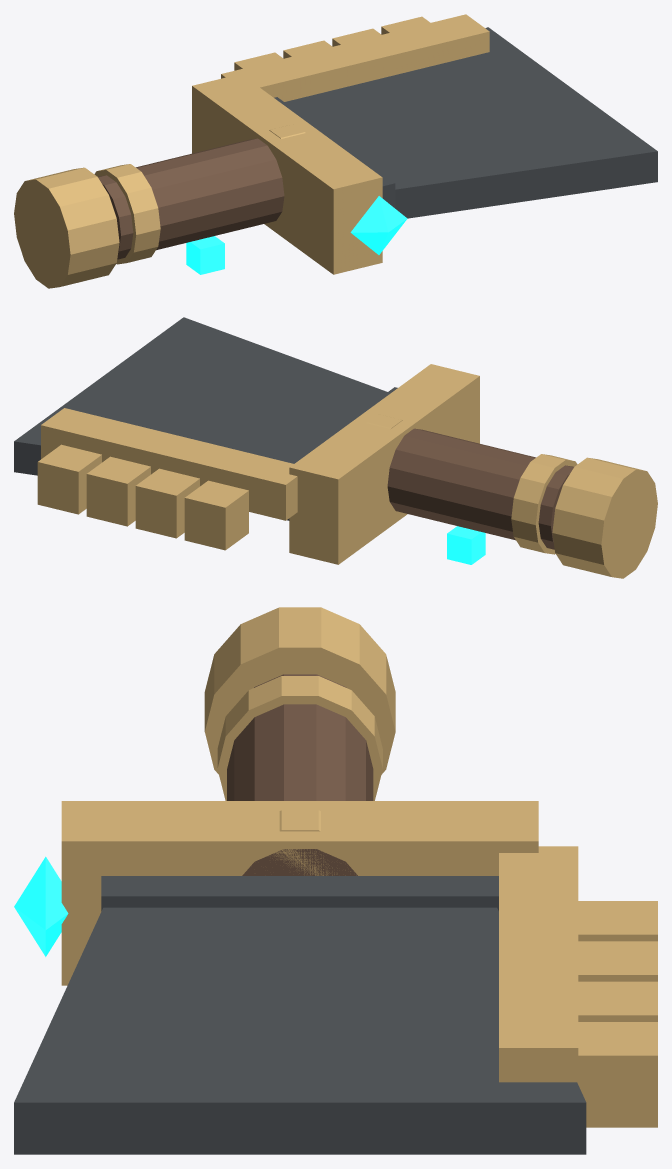
The model's file is SM_MKG_RatchetCleaver_A01.fbx.
The picture shows the model from 3 angles, top to bottom: view 1: azimuth 30°, elevation 25°; view 2: azimuth 150°, elevation 25°; view 3: azimuth 270°, elevation 25°; orthographic projection. The views are drawn at different scales.
Parts seen in each view (by area): view 1: Blade_DarkIron_WideCleaver, Guard_Brass_Block, Grip_Leather_OversizedGnome, Pommel_Brass_Counterweight, Blade_Brass_ReinforcedSpine, Grip_Brass_BackBand, CalibrationInset_Aetherium_Blue, SocketMarker_HandRWeapon_Pivot, Blade_DarkIron_HeelPlate, RatchetTooth_Brass_04, RatchetTooth_Brass_01, RatchetTooth_Brass_03 (+1 smaller); view 2: Blade_DarkIron_WideCleaver, Guard_Brass_Block, Grip_Leather_OversizedGnome, Blade_Brass_ReinforcedSpine, Pommel_Brass_Counterweight, RatchetTooth_Brass_01, RatchetTooth_Brass_02, RatchetTooth_Brass_03, RatchetTooth_Brass_04, Grip_Brass_BackBand, SocketMarker_HandRWeapon_Pivot, Blade_DarkIron_HeelPlate; view 3: Blade_DarkIron_WideCleaver, Guard_Brass_Block, Blade_Brass_ReinforcedSpine, Grip_Leather_OversizedGnome, Pommel_Brass_Counterweight, Blade_DarkIron_HeelPlate, RatchetTooth_Brass_04, Grip_Brass_BackBand, RatchetTooth_Brass_01, RatchetTooth_Brass_02, RatchetTooth_Brass_03, CalibrationInset_Aetherium_Blue (+1 smaller).
Part boxes in pixels (x1=…): Blade_DarkIron_WideCleaver: x1=284, y1=27, x2=657, y2=218; Guard_Brass_Block: x1=192, y1=74, x2=382, y2=274; Grip_Leather_OversizedGnome: x1=98, y1=138, x2=284, y2=259; Pommel_Brass_Counterweight: x1=14, y1=167, x2=119, y2=288; Blade_Brass_ReinforcedSpine: x1=221, y1=14, x2=489, y2=101; Grip_Brass_BackBand: x1=94, y1=164, x2=160, y2=264; CalibrationInset_Aetherium_Blue: x1=350, y1=196, x2=407, y2=254; SocketMarker_HandRWeapon_Pivot: x1=186, y1=236, x2=224, y2=274; Blade_DarkIron_HeelPlate: x1=274, y1=97, x2=395, y2=208; RatchetTooth_Brass_04: x1=381, y1=16, x2=430, y2=34; RatchetTooth_Brass_01: x1=234, y1=52, x2=283, y2=70; RatchetTooth_Brass_03: x1=332, y1=28, x2=381, y2=46; Blade_DarkIron_WideCleaver: x1=14, y1=317, x2=387, y2=475; Guard_Brass_Block: x1=289, y1=364, x2=479, y2=564; Grip_Leather_OversizedGnome: x1=387, y1=428, x2=573, y2=549; Blade_Brass_ReinforcedSpine: x1=41, y1=408, x2=297, y2=520; Pommel_Brass_Counterweight: x1=552, y1=457, x2=657, y2=578; RatchetTooth_Brass_01: x1=184, y1=480, x2=248, y2=550; RatchetTooth_Brass_02: x1=135, y1=468, x2=199, y2=538; RatchetTooth_Brass_03: x1=86, y1=456, x2=150, y2=526; RatchetTooth_Brass_04: x1=37, y1=444, x2=101, y2=514; Grip_Brass_BackBand: x1=511, y1=454, x2=577, y2=554; SocketMarker_HandRWeapon_Pivot: x1=447, y1=526, x2=485, y2=564; Blade_DarkIron_HeelPlate: x1=287, y1=387, x2=397, y2=520; Blade_DarkIron_WideCleaver: x1=14, y1=907, x2=586, y2=1154; Guard_Brass_Block: x1=61, y1=801, x2=538, y2=985; Blade_Brass_ReinforcedSpine: x1=499, y1=846, x2=578, y2=1084; Grip_Leather_OversizedGnome: x1=227, y1=674, x2=373, y2=875; Pommel_Brass_Counterweight: x1=204, y1=607, x2=395, y2=774; Blade_DarkIron_HeelPlate: x1=101, y1=876, x2=498, y2=911; RatchetTooth_Brass_04: x1=578, y1=1022, x2=657, y2=1127; Grip_Brass_BackBand: x1=217, y1=676, x2=382, y2=800; RatchetTooth_Brass_01: x1=578, y1=901, x2=657, y2=941; RatchetTooth_Brass_02: x1=578, y1=941, x2=657, y2=981; RatchetTooth_Brass_03: x1=578, y1=981, x2=657, y2=1021; CalibrationInset_Aetherium_Blue: x1=14, y1=856, x2=68, y2=956.
Size of what is drawn, in the model's own units: 4050 by 6500 by 1435.
